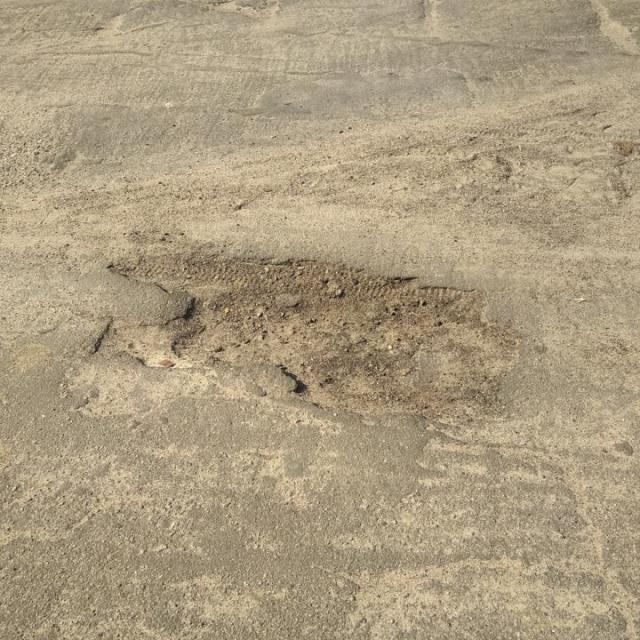pothole: (90, 243, 526, 427)
